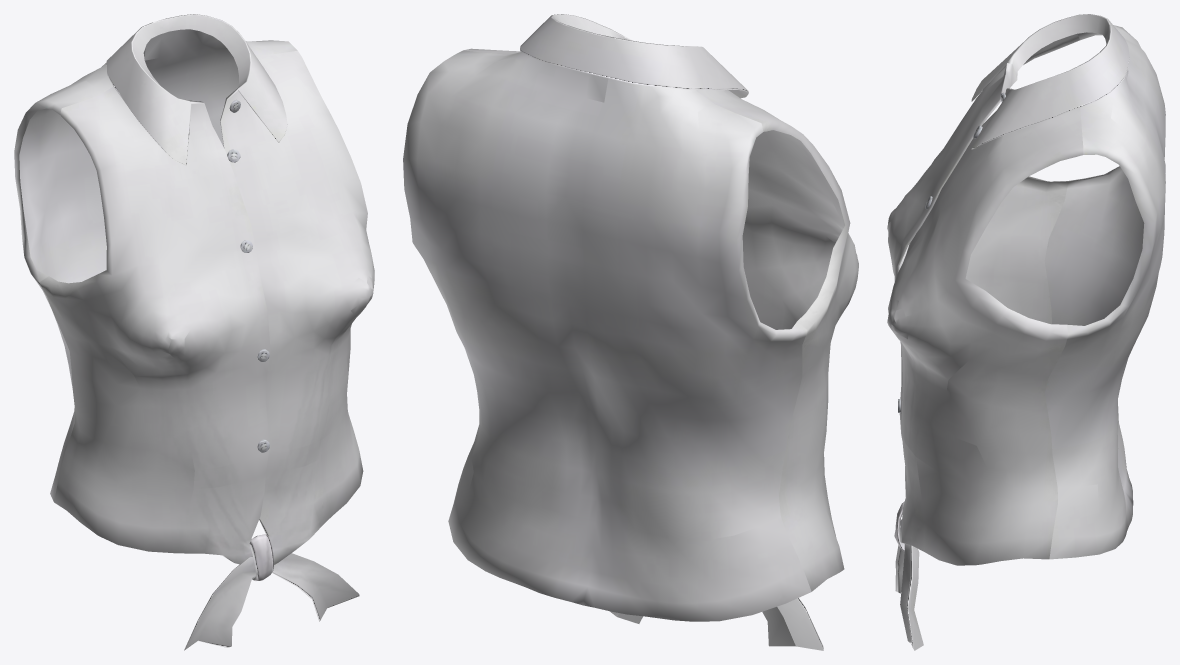
The model's file is punkduck-sleeveless-shirt.glb.
3 renders of one model, left to right at view 1: azimuth 30°, elevation 25°; view 2: azimuth 150°, elevation 25°; view 3: azimuth 270°, elevation 25°, orthographic. The views are drawn at different scales.
Visible parts, largest first — view 1: sleeveless shirt; view 2: sleeveless shirt; view 3: sleeveless shirt.
Boxes of the visible parts, x1,y1,x2,y2 form: sleeveless shirt: [14, 14, 374, 650]; sleeveless shirt: [403, 14, 858, 650]; sleeveless shirt: [887, 14, 1165, 650].
Bounding box in the file's own units: 30.06 × 53.61 × 23.22.
1 material, 1 textured.
